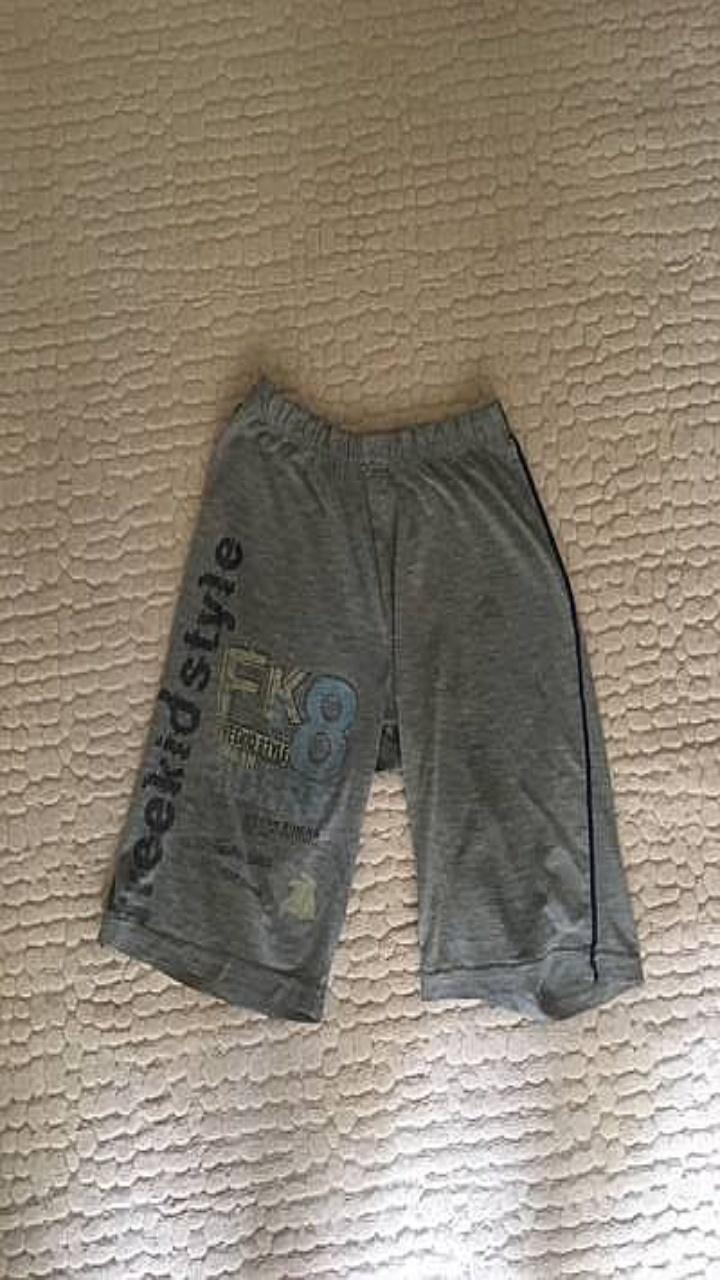Shorts: (99, 377, 642, 1021)
